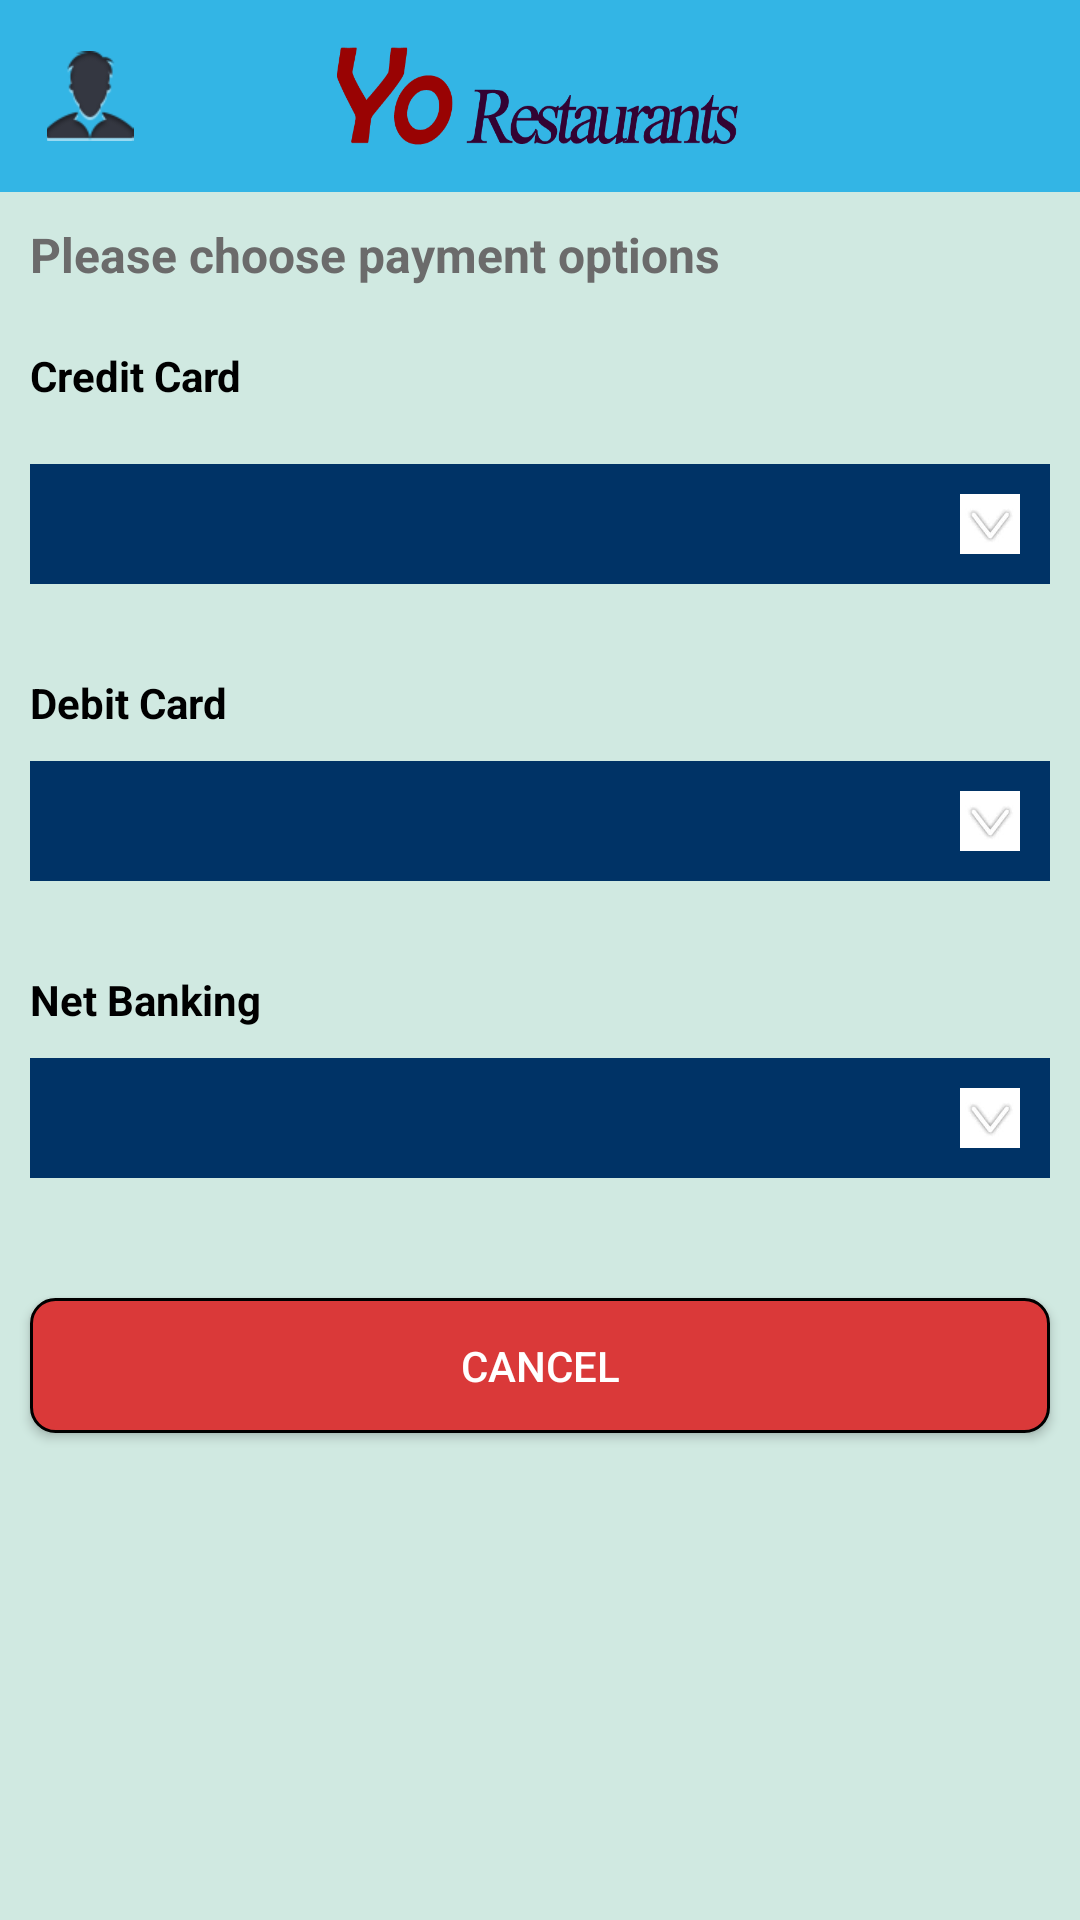

Icon click points for this 1080×1920 phone screenshot, format (x=x, y=y):
down: (x=990, y=524), (x=990, y=821), (x=990, y=1118)
profile: (x=90, y=96)
